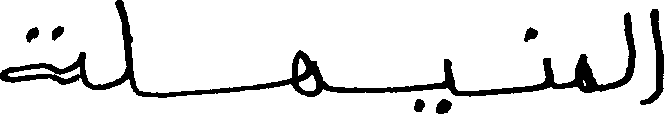ا: (648, 6, 662, 103)
ة: (0, 23, 85, 87)
ل: (111, 0, 135, 95), (622, 10, 637, 87)
م: (572, 52, 595, 93)
ن: (523, 27, 555, 90)
ه: (288, 48, 323, 97)
ي: (406, 56, 456, 113)
